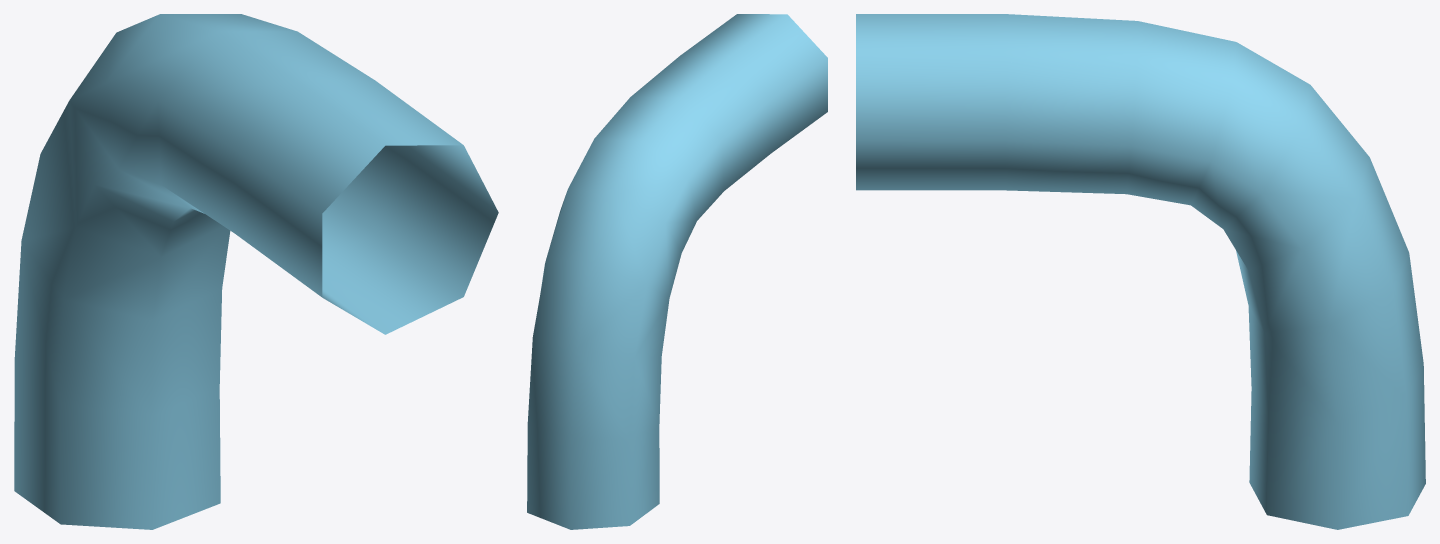
Rendered from Norris_Maze_Blue_Wire_Out.fbx.
3 views of the same model, side by side, from view 1: azimuth 30°, elevation 25°; view 2: azimuth 150°, elevation 25°; view 3: azimuth 270°, elevation 25° (orthographic). The views are drawn at different scales.
Parts seen in each view (by area): view 1: WireDown; view 2: WireDown; view 3: WireDown.
Part boxes in pixels (left/top/right/bottom): WireDown: left=14, top=14, right=498, bottom=529; WireDown: left=527, top=14, right=827, bottom=529; WireDown: left=856, top=14, right=1425, bottom=529.
Bounding box in the file's own units: 0.9742 × 2.94 × 3.23.
